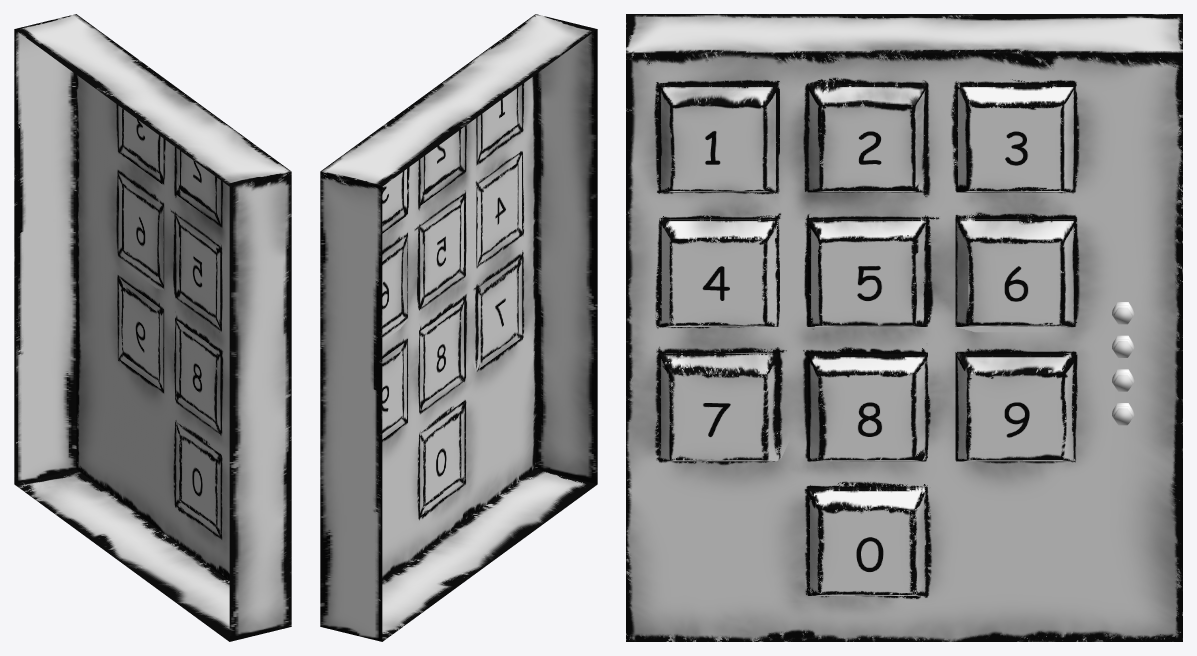
Rendered from Numpad.fbx.
3 views of the same model, side by side, from view 1: azimuth 30°, elevation 25°; view 2: azimuth 150°, elevation 25°; view 3: azimuth 270°, elevation 25° (orthographic). The views are drawn at different scales.
Visible parts, largest first — view 1: Numpad; view 2: Numpad; view 3: Numpad.
Boxes of the visible parts, x1,y1,x2,y2 form: Numpad: (14,14,291,641); Numpad: (320,14,597,641); Numpad: (626,14,1182,641).
Size of the model in its own units: 6.35 by 35 by 30.
Materials: 2 (1 with a texture image).
